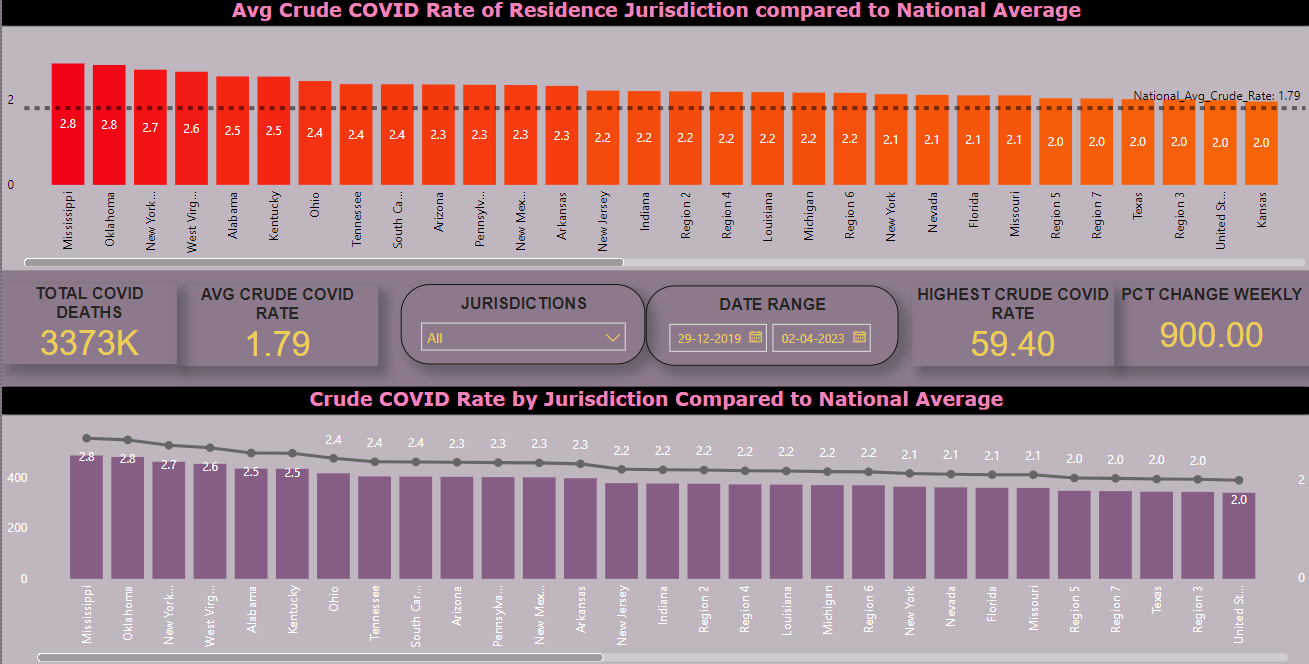

The page's visual inventory and layout, read from the dashboard file:
{"tool":"powerbi","page":{"name":"Page 2","canvas":[1280,720],"ordinal":2},"visuals":[{"type":"lineStackedColumnComboChart","title":"Crude COVID Rate by Jurisdiction Compared to National Average","fields":{"Category":["CovidP.Residence_Jurisdiction"],"Y":["Sum(CovidP.Crude_Covid_Rate)"],"Y2":["CovidP.Avg_Crude_COVID_Rate"]},"box":[0,380.3,1280.3,272.7],"z":0},{"type":"clusteredColumnChart","title":"Avg Crude COVID Rate of Residence Jurisdiction compared to National Average","fields":{"Category":["CovidP.Residence_Jurisdiction"],"Y":["CovidP.Avg_Crude_COVID_Rate"]},"box":[0,0,1280.3,266.6],"z":1000},{"type":"card","title":"TOTAL COVID DEATHS","fields":{"Values":["Sum(CovidP.Covid_Deaths)"]},"box":[0,280.1,170.9,78.4],"z":2000},{"type":"card","title":"AVG CRUDE COVID RATE","fields":{"Values":["CovidP.National_Avg_Crude_rate"]},"box":[170.9,281.3,196.5,78.4],"z":3000},{"type":"card","title":"HIGHEST CRUDE COVID RATE","fields":{"Values":["CovidP.Higest_crude_covid_rate"]},"box":[890.3,281.3,197.8,78.4],"z":4000},{"type":"card","title":"PCT CHANGE WEEKLY","fields":{"Values":["Max(CovidP.Pct_Change_Weekly)"]},"box":[1086.8,281.3,192.7,78.4],"z":5000},{"type":"slicer","title":"JURISDICTIONS","fields":{"Values":["CovidP.Residence_Jurisdiction"]},"box":[389.8,280.5,239.6,78.2],"z":6000},{"type":"slicer","title":"DATE RANGE","fields":{"Values":["CovidP.Data_Period_start"]},"box":[629.3,281.8,247,78.2],"z":7000},{"type":"advancedSlicerVisual","fields":{"Values":["CovidP.Data_Period_start.Variation.Date Hierarchy.Year"]},"box":[390.1,653,531.9,67.3],"z":8000},{"type":"actionButton","box":[0,680.2,43.4,39.7],"z":9000},{"type":"actionButton","box":[1238.7,679.9,41.6,40.4],"z":10000},{"type":"shape","box":[55,679.9,61.1,39.1],"z":11000},{"type":"shape","box":[1169,678.7,52.6,40.4],"z":12000}]}

Visuals, with their boxes on the page's 1280x720 design canvas (x1, y1, x2, y2). These are canvas units, not pixel positions in the 1309x664 screenshot, which may show the page scaled, cropped or inside an application window:
"Crude COVID Rate by Jurisdiction Compared to National Average" lineStackedColumnComboChart: [x1=0, y1=380, x2=1280, y2=653]
"Avg Crude COVID Rate of Residence Jurisdiction compared to National Average" clusteredColumnChart: [x1=0, y1=0, x2=1280, y2=267]
"TOTAL COVID DEATHS" card: [x1=0, y1=280, x2=171, y2=358]
"AVG CRUDE COVID RATE" card: [x1=171, y1=281, x2=367, y2=360]
"HIGHEST CRUDE COVID RATE" card: [x1=890, y1=281, x2=1088, y2=360]
"PCT CHANGE WEEKLY" card: [x1=1087, y1=281, x2=1280, y2=360]
"JURISDICTIONS" slicer: [x1=390, y1=280, x2=629, y2=359]
"DATE RANGE" slicer: [x1=629, y1=282, x2=876, y2=360]
advancedSlicerVisual - CovidP.Data_Period_start.Variation.Date Hierarchy.Year: [x1=390, y1=653, x2=922, y2=720]
actionButton: [x1=0, y1=680, x2=43, y2=720]
actionButton: [x1=1239, y1=680, x2=1280, y2=720]
shape: [x1=55, y1=680, x2=116, y2=719]
shape: [x1=1169, y1=679, x2=1222, y2=719]
